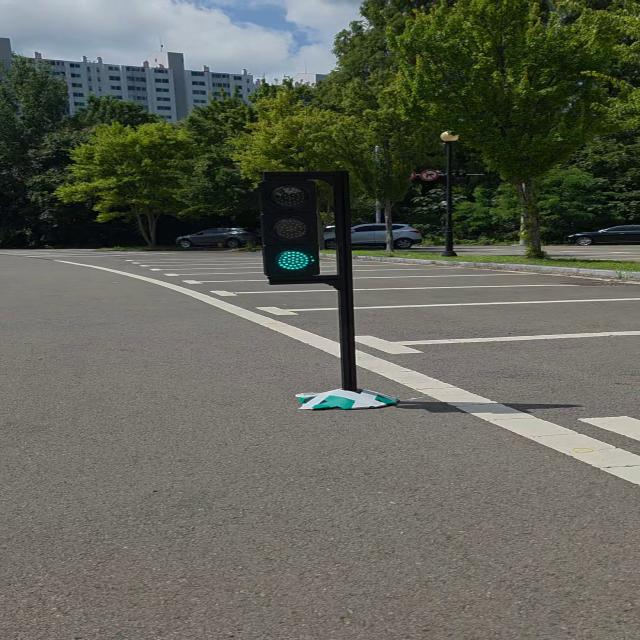green: (260, 172, 328, 282)
